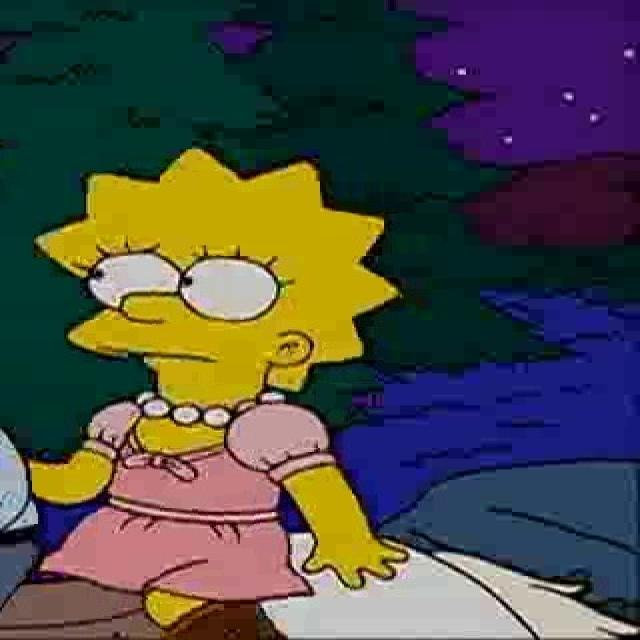Lisa Simpson: (31, 145, 405, 428)
